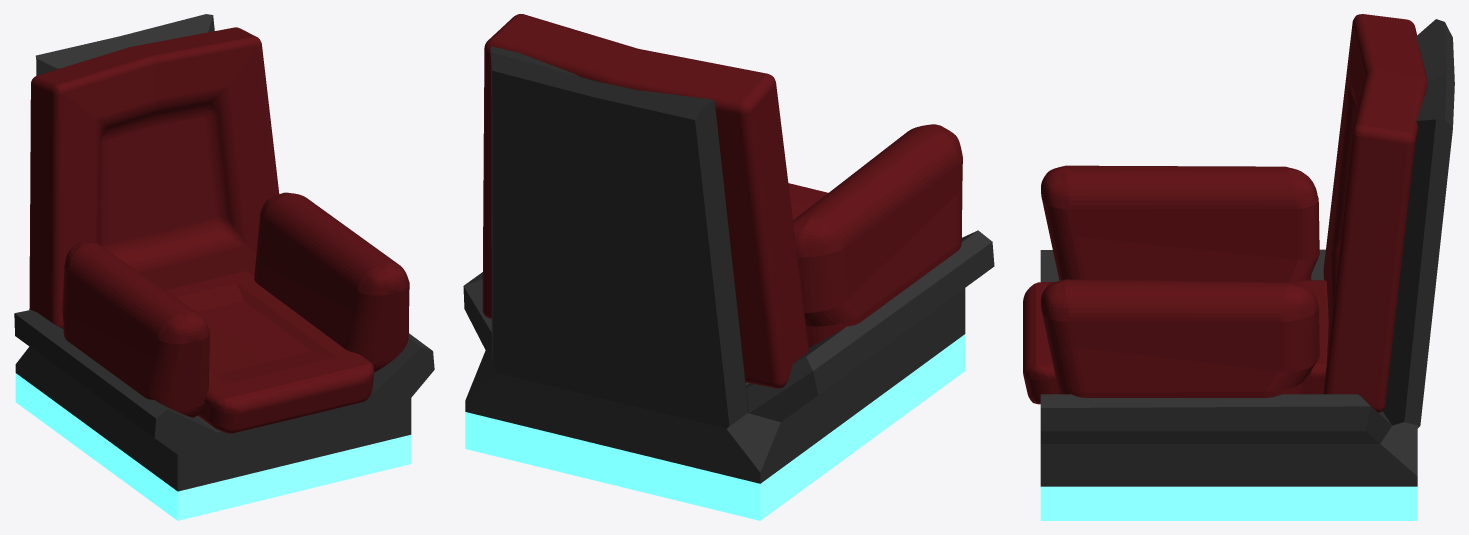
Rendered from armchair_6ebab275.glb.
3 renders of one model, left to right at view 1: azimuth 30°, elevation 25°; view 2: azimuth 150°, elevation 25°; view 3: azimuth 270°, elevation 25°, orthographic. The views are drawn at different scales.
Visible parts, largest first — view 1: Plane.003_3, Plane.002_2, Plane.001_1, Plane.004_4, Plane_0; view 2: Plane.001_1, Plane.003_3, Plane.002_2, Plane_0, Plane.004_4; view 3: Plane.002_2, Plane.001_1, Plane.003_3, Plane_0, Plane.004_4.
Part boxes in pixels (box(x1,y1,x2,y2)): Plane.003_3: box(29, 27, 279, 328); Plane.002_2: box(62, 192, 409, 417); Plane.001_1: box(14, 14, 434, 491); Plane.004_4: box(165, 271, 374, 433); Plane_0: box(15, 373, 411, 520); Plane.001_1: box(463, 46, 994, 483); Plane.003_3: box(482, 14, 808, 388); Plane.002_2: box(793, 124, 962, 347); Plane_0: box(465, 334, 965, 520); Plane.004_4: box(788, 183, 827, 219); Plane.002_2: box(1041, 165, 1319, 397); Plane.001_1: box(1040, 19, 1454, 486); Plane.003_3: box(1323, 14, 1427, 412); Plane_0: box(1040, 486, 1417, 520); Plane.004_4: box(1023, 280, 1328, 404).
Bounding box in the file's own units: 0.9977 × 1.13 × 1.15.
